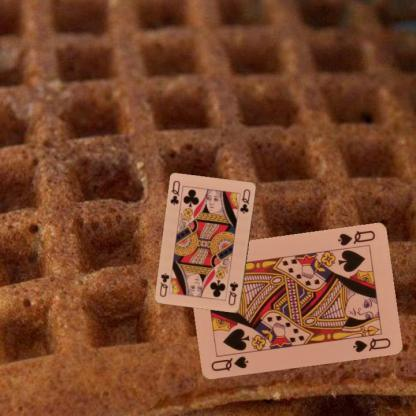Qc: (168, 178, 182, 207), (225, 280, 240, 307)
Qs: (334, 228, 376, 248), (208, 354, 250, 372)
